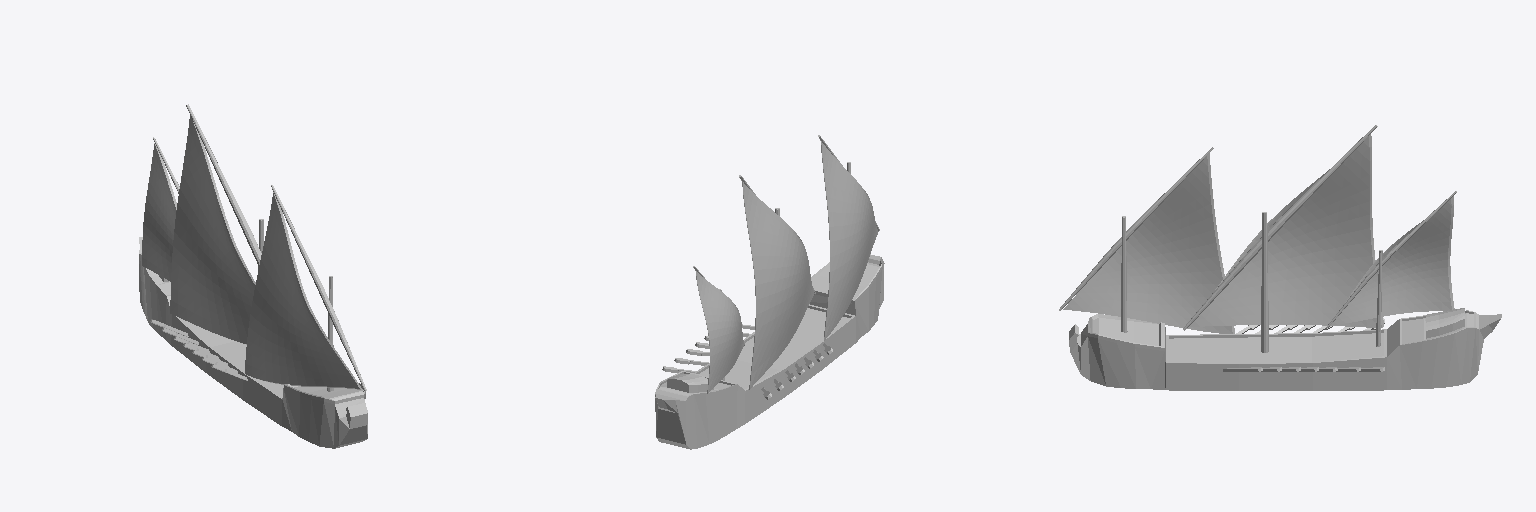
Rendered from galleass.obj.
3 views of the same model, side by side, from view 1: azimuth 30°, elevation 25°; view 2: azimuth 150°, elevation 25°; view 3: azimuth 270°, elevation 25° (orthographic).
Visible parts, largest first — view 1: Galleass; view 2: Galleass; view 3: Galleass.
Boxes of the visible parts, x1=… form: Galleass: x1=139, y1=104, x2=367, y2=448; Galleass: x1=655, y1=135, x2=884, y2=449; Galleass: x1=1059, y1=125, x2=1501, y2=390.
Bounding box in the file's own units: 1.09 × 2.33 × 3.85.